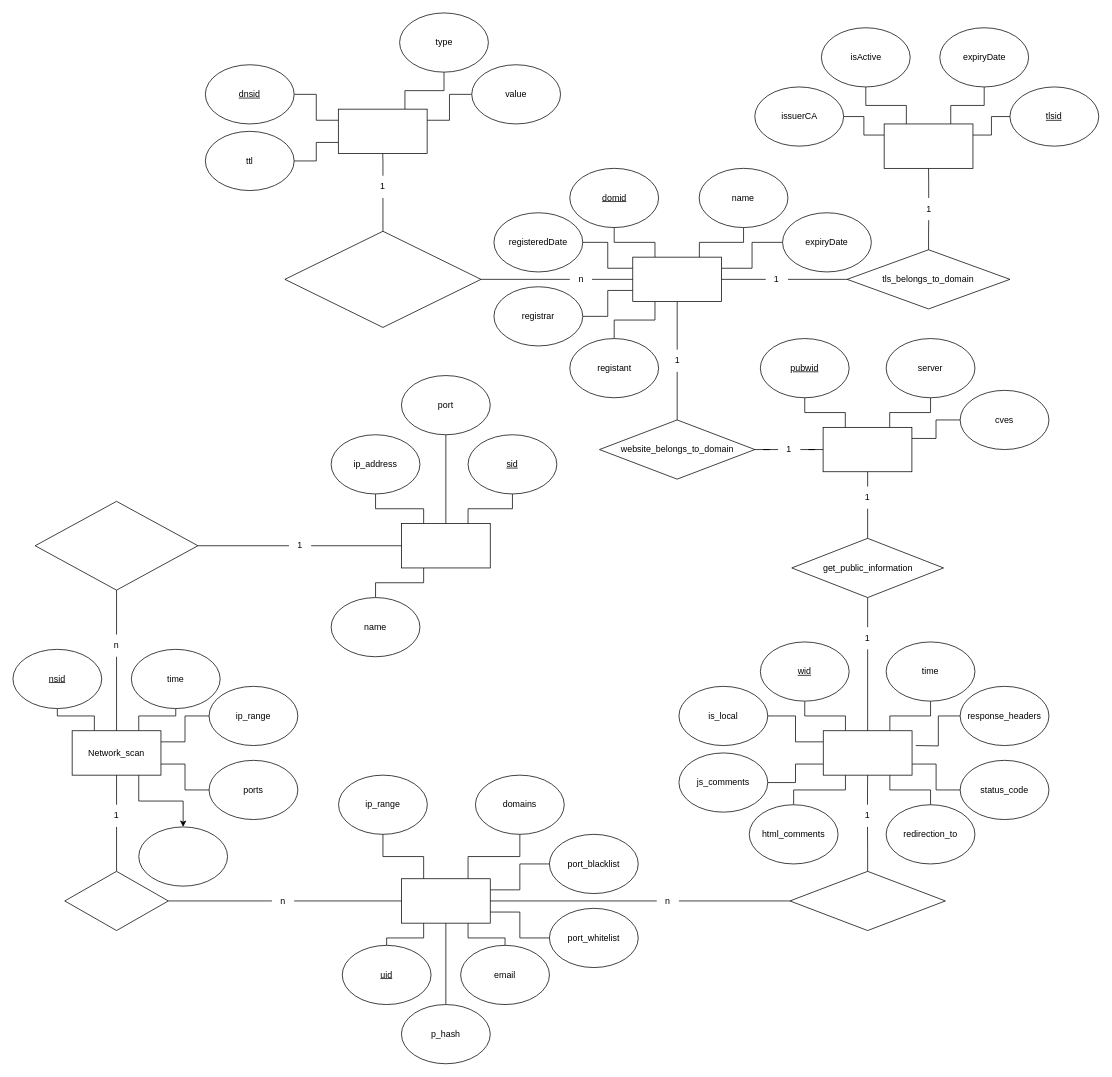
The diagram is 1112 pixels wide and 1077 high, and some of its shapes have lost their labels. Here are the shapes that lost their labels. From the top down, the box of each, then its label:
(338, 108, 427, 154): DNS_record
(883, 123, 973, 168): TLS_certificate
(284, 231, 481, 327): dns_record_belongs_to_domain
(632, 256, 722, 302): Domain
(822, 427, 912, 472): Public_website_info
(34, 501, 198, 590): service_found_by_network_scan
(401, 523, 490, 568): Service
(823, 730, 912, 775): Website_info
(138, 826, 228, 886): ip_addresses
(64, 871, 168, 931): scan_ran_by
(401, 878, 490, 923): User
(789, 871, 945, 931): website_analyzed_by
